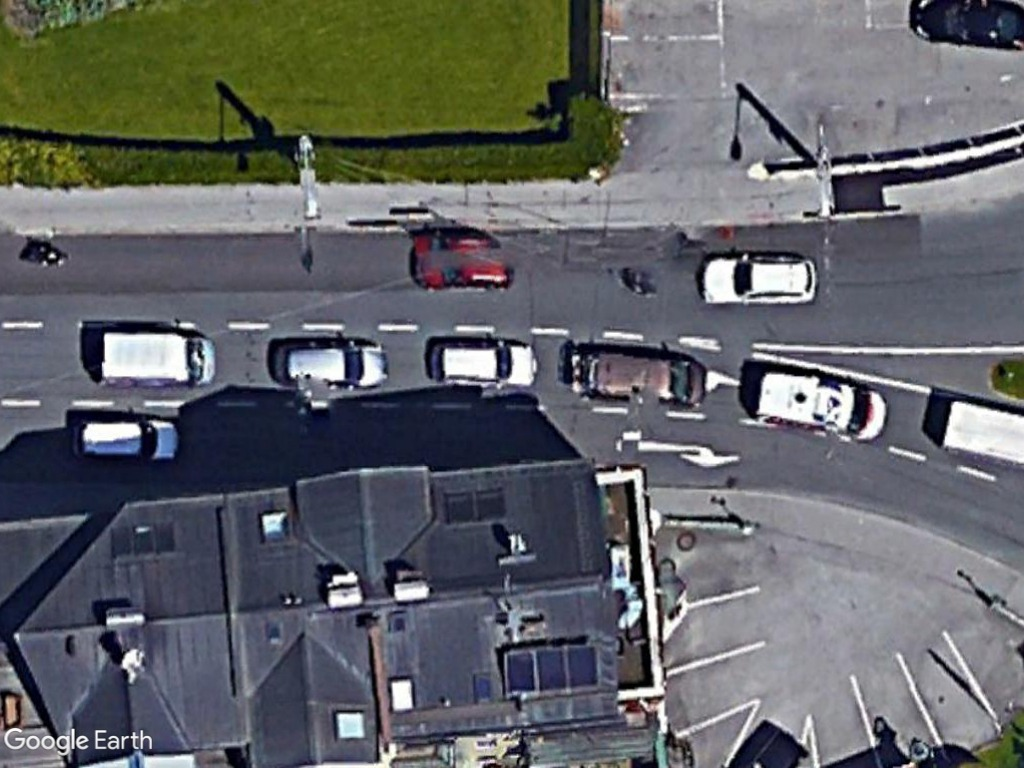car: (695, 249, 823, 310), (271, 335, 392, 395), (425, 334, 544, 394), (68, 413, 185, 465)
van: (755, 365, 892, 446), (94, 325, 222, 392), (581, 347, 714, 408)
